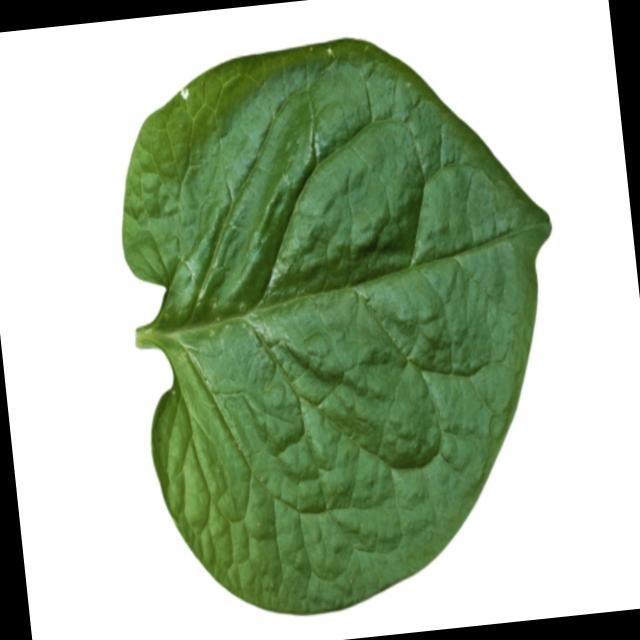Medicinal-Basale: (100, 12, 588, 626)
